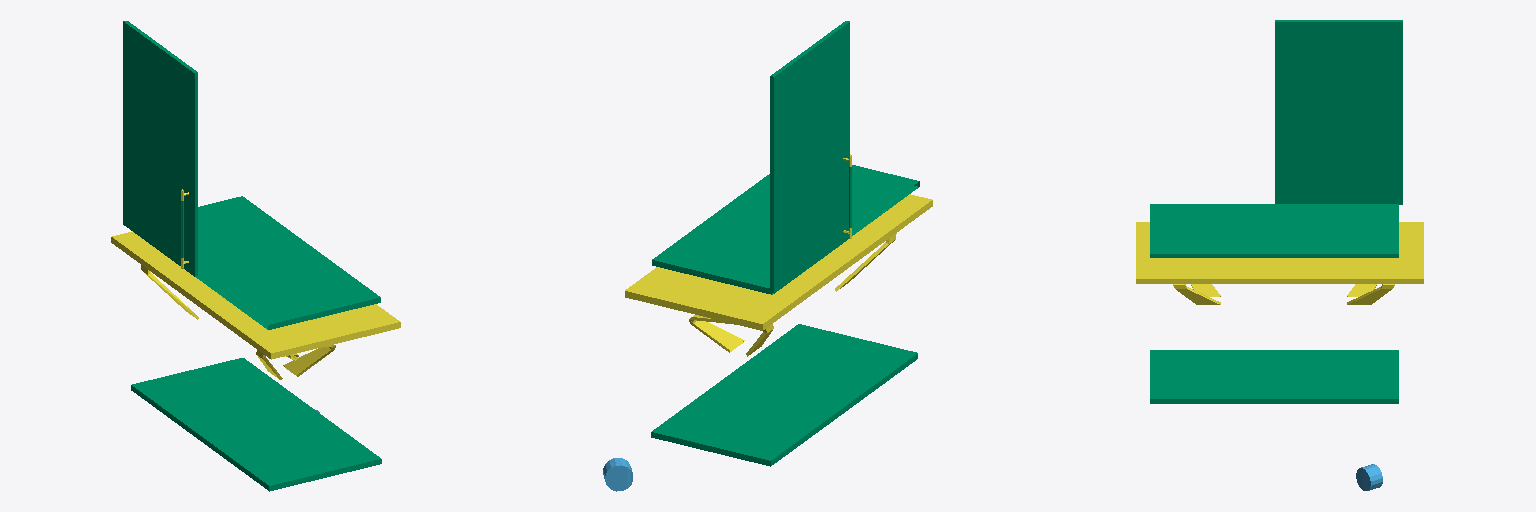
robot.urdf — partnet_bc4ba0bd86545f3fcc749dbc8c455b3f:
<?xml version="1.0" ?>
<robot name="partnet_bc4ba0bd86545f3fcc749dbc8c455b3f">
	<link name="base"/>
	<link name="link_0">
		<visual name="drawer_front-28">
			<origin xyz="0 0 0"/>
			<geometry>
				<mesh filename="textured_objs/original-29.obj"/>
			</geometry>
		</visual>
		<visual name="drawer_side-29">
			<origin xyz="0 0 0"/>
			<geometry>
				<mesh filename="textured_objs/original-31.obj"/>
			</geometry>
		</visual>
		<visual name="drawer_side-30">
			<origin xyz="0 0 0"/>
			<geometry>
				<mesh filename="textured_objs/original-32.obj"/>
			</geometry>
		</visual>
		<visual name="drawer_back-31">
			<origin xyz="0 0 0"/>
			<geometry>
				<mesh filename="textured_objs/original-30.obj"/>
			</geometry>
		</visual>
		<visual name="drawer_bottom-32">
			<origin xyz="0 0 0"/>
			<geometry>
				<mesh filename="textured_objs/original-33.obj"/>
			</geometry>
		</visual>
		<visual name="handle-27">
			<origin xyz="0 0 0"/>
			<geometry>
				<mesh filename="textured_objs/original-34.obj"/>
			</geometry>
		</visual>
		<collision>
			<origin xyz="0 0 0"/>
			<geometry>
				<mesh filename="textured_objs/original-29.obj"/>
			</geometry>
		</collision>
		<collision>
			<origin xyz="0 0 0"/>
			<geometry>
				<mesh filename="textured_objs/original-31.obj"/>
			</geometry>
		</collision>
		<collision>
			<origin xyz="0 0 0"/>
			<geometry>
				<mesh filename="textured_objs/original-32.obj"/>
			</geometry>
		</collision>
		<collision>
			<origin xyz="0 0 0"/>
			<geometry>
				<mesh filename="textured_objs/original-30.obj"/>
			</geometry>
		</collision>
		<collision>
			<origin xyz="0 0 0"/>
			<geometry>
				<mesh filename="textured_objs/original-33.obj"/>
			</geometry>
		</collision>
		<collision>
			<origin xyz="0 0 0"/>
			<geometry>
				<mesh filename="textured_objs/original-34.obj"/>
			</geometry>
		</collision>
	</link>
	<joint name="joint_0" type="prismatic">
		<origin xyz="0 0 0"/>
		<axis xyz="0 0 1"/>
		<child link="link_0"/>
		<parent link="link_2"/>
		<limit lower="0" upper="0.3839999999999999"/>
	</joint>
	<link name="link_1">
		<visual name="drawer_front-21">
			<origin xyz="0 0 0"/>
			<geometry>
				<mesh filename="textured_objs/original-36.obj"/>
			</geometry>
		</visual>
		<visual name="drawer_side-22">
			<origin xyz="0 0 0"/>
			<geometry>
				<mesh filename="textured_objs/original-39.obj"/>
			</geometry>
		</visual>
		<visual name="drawer_side-23">
			<origin xyz="0 0 0"/>
			<geometry>
				<mesh filename="textured_objs/original-38.obj"/>
			</geometry>
		</visual>
		<visual name="drawer_back-24">
			<origin xyz="0 0 0"/>
			<geometry>
				<mesh filename="textured_objs/original-37.obj"/>
			</geometry>
		</visual>
		<visual name="drawer_bottom-25">
			<origin xyz="0 0 0"/>
			<geometry>
				<mesh filename="textured_objs/original-40.obj"/>
			</geometry>
		</visual>
		<visual name="handle-20">
			<origin xyz="0 0 0"/>
			<geometry>
				<mesh filename="textured_objs/original-41.obj"/>
			</geometry>
		</visual>
		<collision>
			<origin xyz="0 0 0"/>
			<geometry>
				<mesh filename="textured_objs/original-36.obj"/>
			</geometry>
		</collision>
		<collision>
			<origin xyz="0 0 0"/>
			<geometry>
				<mesh filename="textured_objs/original-39.obj"/>
			</geometry>
		</collision>
		<collision>
			<origin xyz="0 0 0"/>
			<geometry>
				<mesh filename="textured_objs/original-38.obj"/>
			</geometry>
		</collision>
		<collision>
			<origin xyz="0 0 0"/>
			<geometry>
				<mesh filename="textured_objs/original-37.obj"/>
			</geometry>
		</collision>
		<collision>
			<origin xyz="0 0 0"/>
			<geometry>
				<mesh filename="textured_objs/original-40.obj"/>
			</geometry>
		</collision>
		<collision>
			<origin xyz="0 0 0"/>
			<geometry>
				<mesh filename="textured_objs/original-41.obj"/>
			</geometry>
		</collision>
	</link>
	<joint name="joint_1" type="prismatic">
		<origin xyz="0 0 0"/>
		<axis xyz="0 0 1"/>
		<child link="link_1"/>
		<parent link="link_2"/>
		<limit lower="-0.28800000000000003" upper="0.08800000000000008"/>
	</joint>
	<link name="link_2">
		<visual name="board-34">
			<origin xyz="0 0 0"/>
			<geometry>
				<mesh filename="textured_objs/original-5.obj"/>
			</geometry>
		</visual>
		<visual name="leg-8">
			<origin xyz="0 0 0"/>
			<geometry>
				<mesh filename="textured_objs/original-1.obj"/>
			</geometry>
		</visual>
		<visual name="leg-9">
			<origin xyz="0 0 0"/>
			<geometry>
				<mesh filename="textured_objs/original-3.obj"/>
			</geometry>
		</visual>
		<visual name="leg-10">
			<origin xyz="0 0 0"/>
			<geometry>
				<mesh filename="textured_objs/original-4.obj"/>
			</geometry>
		</visual>
		<visual name="leg-11">
			<origin xyz="0 0 0"/>
			<geometry>
				<mesh filename="textured_objs/original-2.obj"/>
			</geometry>
		</visual>
		<visual name="shelf-12">
			<origin xyz="0 0 0"/>
			<geometry>
				<mesh filename="textured_objs/original-12.obj"/>
			</geometry>
		</visual>
		<visual name="vertical_side_panel-13">
			<origin xyz="0 0 0"/>
			<geometry>
				<mesh filename="textured_objs/original-7.obj"/>
			</geometry>
		</visual>
		<visual name="vertical_side_panel-14">
			<origin xyz="0 0 0"/>
			<geometry>
				<mesh filename="textured_objs/original-6.obj"/>
			</geometry>
		</visual>
		<visual name="bar_stretcher-15">
			<origin xyz="0 0 0"/>
			<geometry>
				<mesh filename="textured_objs/original-42.obj"/>
			</geometry>
		</visual>
		<visual name="bar_stretcher-16">
			<origin xyz="0 0 0"/>
			<geometry>
				<mesh filename="textured_objs/original-43.obj"/>
			</geometry>
		</visual>
		<visual name="back_panel-35">
			<origin xyz="0 0 0"/>
			<geometry>
				<mesh filename="textured_objs/original-11.obj"/>
			</geometry>
		</visual>
		<visual name="vertical_front_panel-37">
			<origin xyz="0 0 0"/>
			<geometry>
				<mesh filename="textured_objs/original-13.obj"/>
			</geometry>
		</visual>
		<visual name="tabletop_connector-38">
			<origin xyz="0 0 0"/>
			<geometry>
				<mesh filename="textured_objs/original-9.obj"/>
			</geometry>
		</visual>
		<visual name="tabletop_connector-38">
			<origin xyz="0 0 0"/>
			<geometry>
				<mesh filename="textured_objs/original-27.obj"/>
			</geometry>
		</visual>
		<visual name="tabletop_connector-38">
			<origin xyz="0 0 0"/>
			<geometry>
				<mesh filename="textured_objs/original-26.obj"/>
			</geometry>
		</visual>
		<visual name="tabletop_connector-38">
			<origin xyz="0 0 0"/>
			<geometry>
				<mesh filename="textured_objs/original-23.obj"/>
			</geometry>
		</visual>
		<visual name="tabletop_connector-38">
			<origin xyz="0 0 0"/>
			<geometry>
				<mesh filename="textured_objs/original-14.obj"/>
			</geometry>
		</visual>
		<visual name="tabletop_connector-38">
			<origin xyz="0 0 0"/>
			<geometry>
				<mesh filename="textured_objs/original-21.obj"/>
			</geometry>
		</visual>
		<visual name="tabletop_connector-38">
			<origin xyz="0 0 0"/>
			<geometry>
				<mesh filename="textured_objs/original-18.obj"/>
			</geometry>
		</visual>
		<visual name="tabletop_connector-38">
			<origin xyz="0 0 0"/>
			<geometry>
				<mesh filename="textured_objs/original-16.obj"/>
			</geometry>
		</visual>
		<visual name="tabletop_connector-38">
			<origin xyz="0 0 0"/>
			<geometry>
				<mesh filename="textured_objs/original-15.obj"/>
			</geometry>
		</visual>
		<visual name="tabletop_connector-38">
			<origin xyz="0 0 0"/>
			<geometry>
				<mesh filename="textured_objs/original-22.obj"/>
			</geometry>
		</visual>
		<visual name="tabletop_connector-38">
			<origin xyz="0 0 0"/>
			<geometry>
				<mesh filename="textured_objs/original-20.obj"/>
			</geometry>
		</visual>
		<visual name="tabletop_connector-38">
			<origin xyz="0 0 0"/>
			<geometry>
				<mesh filename="textured_objs/original-17.obj"/>
			</geometry>
		</visual>
		<visual name="tabletop_connector-38">
			<origin xyz="0 0 0"/>
			<geometry>
				<mesh filename="textured_objs/original-19.obj"/>
			</geometry>
		</visual>
		<visual name="tabletop_connector-38">
			<origin xyz="0 0 0"/>
			<geometry>
				<mesh filename="textured_objs/original-24.obj"/>
			</geometry>
		</visual>
		<visual name="bottom_panel-39">
			<origin xyz="0 0 0"/>
			<geometry>
				<mesh filename="textured_objs/original-10.obj"/>
			</geometry>
		</visual>
		<visual name="bottom_panel-39">
			<origin xyz="0 0 0"/>
			<geometry>
				<mesh filename="textured_objs/original-8.obj"/>
			</geometry>
		</visual>
		<visual name="bottom_panel-39">
			<origin xyz="0 0 0"/>
			<geometry>
				<mesh filename="textured_objs/original-25.obj"/>
			</geometry>
		</visual>
		<collision>
			<origin xyz="0 0 0"/>
			<geometry>
				<mesh filename="textured_objs/original-5.obj"/>
			</geometry>
		</collision>
		<collision>
			<origin xyz="0 0 0"/>
			<geometry>
				<mesh filename="textured_objs/original-1.obj"/>
			</geometry>
		</collision>
		<collision>
			<origin xyz="0 0 0"/>
			<geometry>
				<mesh filename="textured_objs/original-3.obj"/>
			</geometry>
		</collision>
		<collision>
			<origin xyz="0 0 0"/>
			<geometry>
				<mesh filename="textured_objs/original-4.obj"/>
			</geometry>
		</collision>
		<collision>
			<origin xyz="0 0 0"/>
			<geometry>
				<mesh filename="textured_objs/original-2.obj"/>
			</geometry>
		</collision>
		<collision>
			<origin xyz="0 0 0"/>
			<geometry>
				<mesh filename="textured_objs/original-12.obj"/>
			</geometry>
		</collision>
		<collision>
			<origin xyz="0 0 0"/>
			<geometry>
				<mesh filename="textured_objs/original-7.obj"/>
			</geometry>
		</collision>
		<collision>
			<origin xyz="0 0 0"/>
			<geometry>
				<mesh filename="textured_objs/original-6.obj"/>
			</geometry>
		</collision>
		<collision>
			<origin xyz="0 0 0"/>
			<geometry>
				<mesh filename="textured_objs/original-42.obj"/>
			</geometry>
		</collision>
		<collision>
			<origin xyz="0 0 0"/>
			<geometry>
				<mesh filename="textured_objs/original-43.obj"/>
			</geometry>
		</collision>
		<collision>
			<origin xyz="0 0 0"/>
			<geometry>
				<mesh filename="textured_objs/original-11.obj"/>
			</geometry>
		</collision>
		<collision>
			<origin xyz="0 0 0"/>
			<geometry>
				<mesh filename="textured_objs/original-13.obj"/>
			</geometry>
		</collision>
		<collision>
			<origin xyz="0 0 0"/>
			<geometry>
				<mesh filename="textured_objs/original-9.obj"/>
			</geometry>
		</collision>
		<collision>
			<origin xyz="0 0 0"/>
			<geometry>
				<mesh filename="textured_objs/original-27.obj"/>
			</geometry>
		</collision>
		<collision>
			<origin xyz="0 0 0"/>
			<geometry>
				<mesh filename="textured_objs/original-26.obj"/>
			</geometry>
		</collision>
		<collision>
			<origin xyz="0 0 0"/>
			<geometry>
				<mesh filename="textured_objs/original-23.obj"/>
			</geometry>
		</collision>
		<collision>
			<origin xyz="0 0 0"/>
			<geometry>
				<mesh filename="textured_objs/original-14.obj"/>
			</geometry>
		</collision>
		<collision>
			<origin xyz="0 0 0"/>
			<geometry>
				<mesh filename="textured_objs/original-21.obj"/>
			</geometry>
		</collision>
		<collision>
			<origin xyz="0 0 0"/>
			<geometry>
				<mesh filename="textured_objs/original-18.obj"/>
			</geometry>
		</collision>
		<collision>
			<origin xyz="0 0 0"/>
			<geometry>
				<mesh filename="textured_objs/original-16.obj"/>
			</geometry>
		</collision>
		<collision>
			<origin xyz="0 0 0"/>
			<geometry>
				<mesh filename="textured_objs/original-15.obj"/>
			</geometry>
		</collision>
		<collision>
			<origin xyz="0 0 0"/>
			<geometry>
				<mesh filename="textured_objs/original-22.obj"/>
			</geometry>
		</collision>
		<collision>
			<origin xyz="0 0 0"/>
			<geometry>
				<mesh filename="textured_objs/original-20.obj"/>
			</geometry>
		</collision>
		<collision>
			<origin xyz="0 0 0"/>
			<geometry>
				<mesh filename="textured_objs/original-17.obj"/>
			</geometry>
		</collision>
		<collision>
			<origin xyz="0 0 0"/>
			<geometry>
				<mesh filename="textured_objs/original-19.obj"/>
			</geometry>
		</collision>
		<collision>
			<origin xyz="0 0 0"/>
			<geometry>
				<mesh filename="textured_objs/original-24.obj"/>
			</geometry>
		</collision>
		<collision>
			<origin xyz="0 0 0"/>
			<geometry>
				<mesh filename="textured_objs/original-10.obj"/>
			</geometry>
		</collision>
		<collision>
			<origin xyz="0 0 0"/>
			<geometry>
				<mesh filename="textured_objs/original-8.obj"/>
			</geometry>
		</collision>
		<collision>
			<origin xyz="0 0 0"/>
			<geometry>
				<mesh filename="textured_objs/original-25.obj"/>
			</geometry>
		</collision>
	</link>
	<joint name="joint_2" type="fixed">
		<origin rpy="1.570796326794897 0 -1.570796326794897" xyz="0 0 0"/>
		<child link="link_2"/>
		<parent link="base"/>
	</joint>
</robot>

--- What the picture shows (computed from the rendered views, not written in the file) ---
3 views of the same robot in one strip: view 1: azimuth 30°, elevation 25°; view 2: azimuth 150°, elevation 25°; view 3: azimuth 270°, elevation 25° (orthographic).
Robot: partnet_bc4ba0bd86545f3fcc749dbc8c455b3f — 4 links, 3 joints (2 prismatic, 1 fixed); root link base; default pose: every joint at zero.
Visible links, largest first — view 1: link_1, link_2; view 2: link_1, link_2, link_0; view 3: link_1, link_2, link_0.
Boxes of the visible links, x1,y1,x2,y2 form: link_1: [123, 21, 381, 491]; link_2: [111, 189, 400, 379]; link_1: [651, 21, 919, 466]; link_2: [625, 154, 932, 356]; link_0: [603, 458, 632, 491]; link_1: [1150, 20, 1402, 403]; link_2: [1136, 222, 1423, 304]; link_0: [1356, 464, 1382, 490].
Size in the robot's own frame: 0.7376 by 1.1 by 1.66 metres.
11 mesh visuals loaded from 41 distinct referenced files (11 OBJ); not drawn: 30 (reference not matched to a file when rendering).